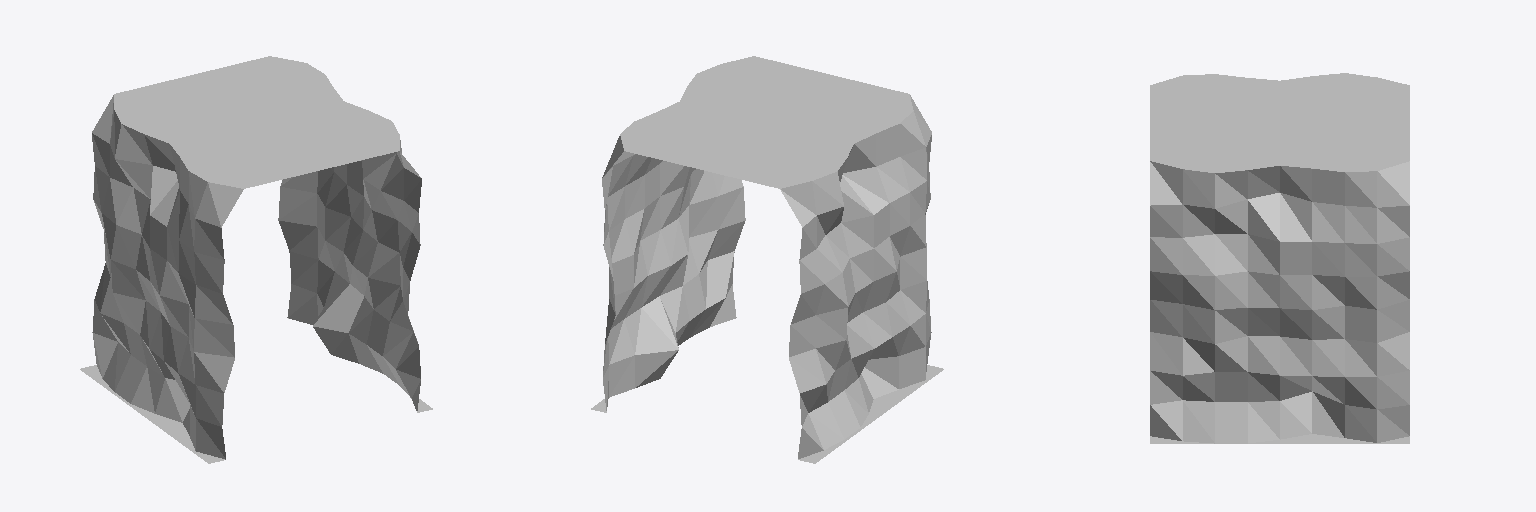
The model's file is dirt_two_sided_01.obj.
The picture shows the model from 3 angles: view 1: azimuth 30°, elevation 25°; view 2: azimuth 150°, elevation 25°; view 3: azimuth 270°, elevation 25°; orthographic projection.
Visible parts, largest first — view 1: dirt_ext_inner01.obj; view 2: dirt_ext_inner01.obj; view 3: dirt_ext_inner01.obj.
Part boxes in pixels (x1,y1,x2,y2): dirt_ext_inner01.obj: (80, 56, 432, 463); dirt_ext_inner01.obj: (591, 56, 943, 463); dirt_ext_inner01.obj: (1150, 73, 1409, 443).
Bounding box in the file's own units: 2.51 × 2.83 × 2.5.